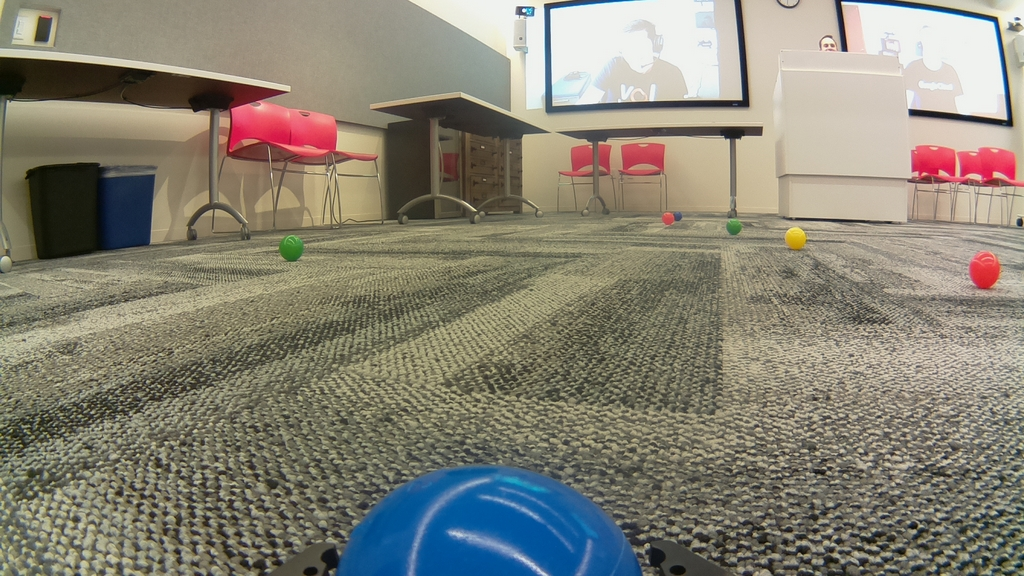ball: (333, 465, 650, 576)
